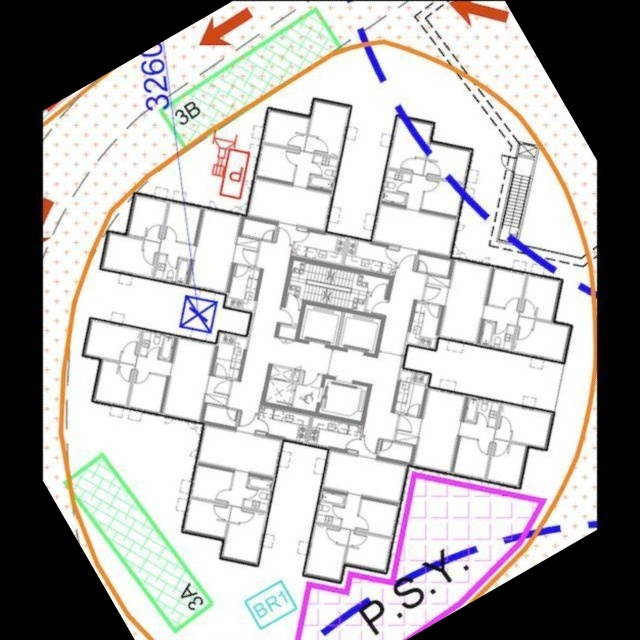tower_crane: (175, 291, 220, 338)
